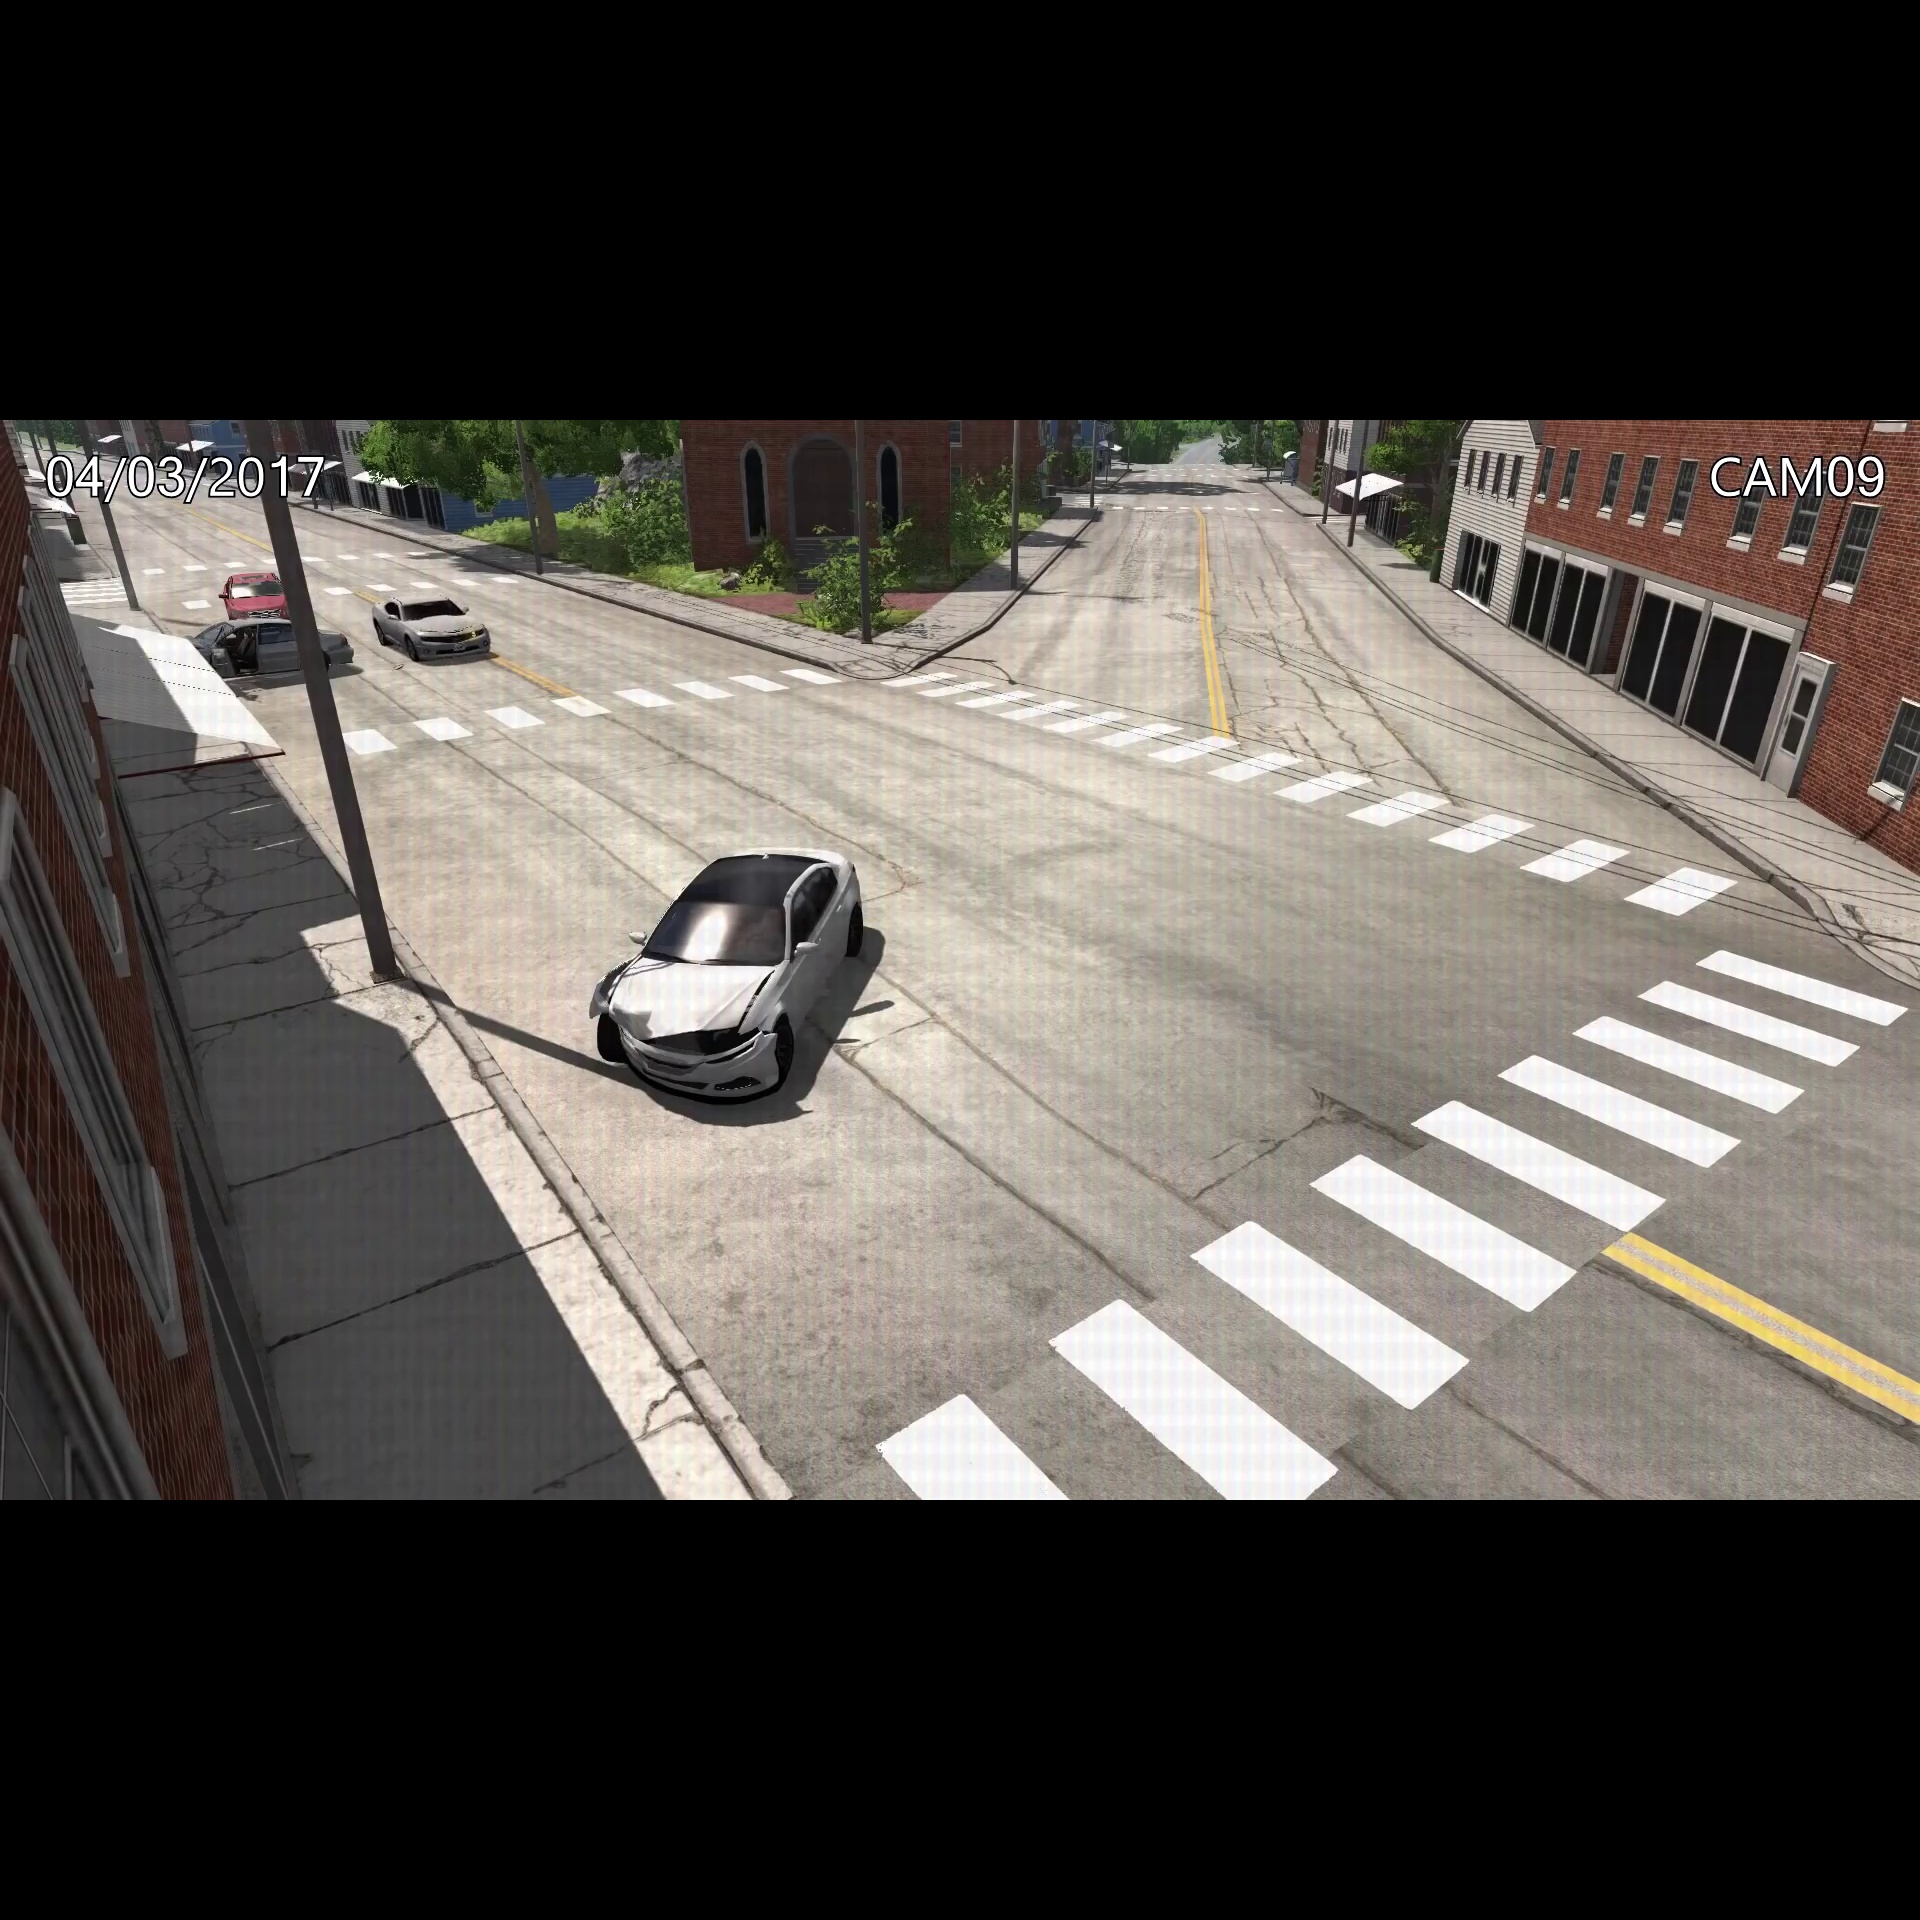vehicle: (587, 839, 870, 1111), (176, 614, 360, 693), (362, 589, 499, 666), (216, 566, 297, 622)
